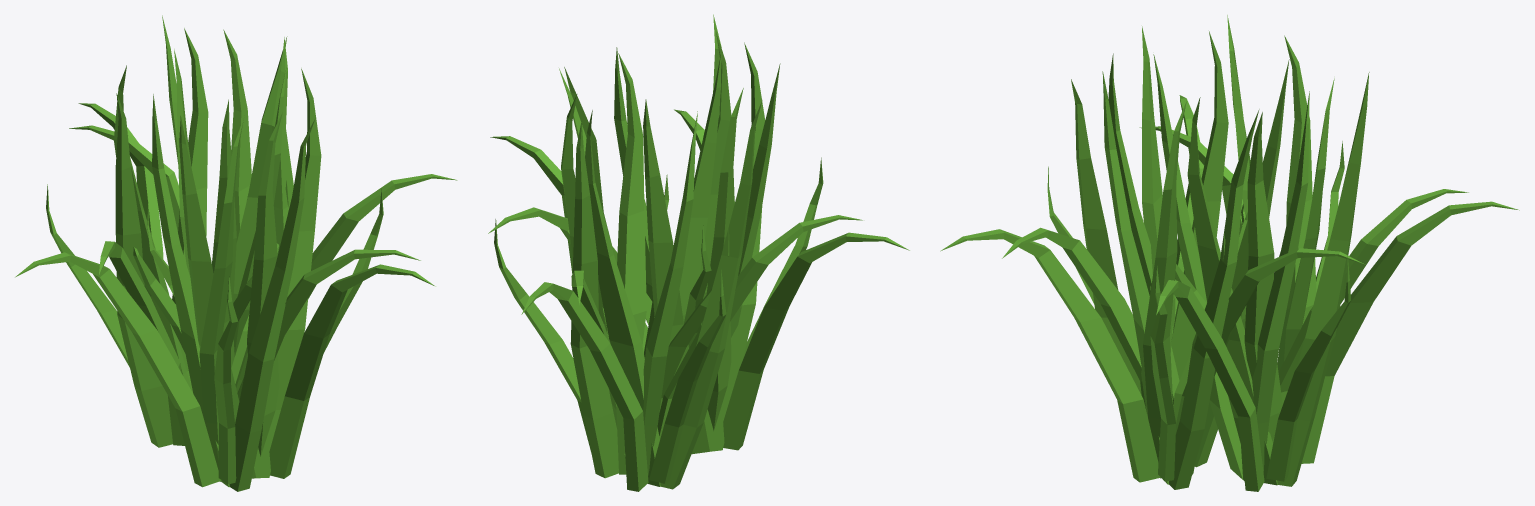
The model's file is Grass.fbx.
3 renders of one model, left to right at view 1: azimuth 30°, elevation 25°; view 2: azimuth 150°, elevation 25°; view 3: azimuth 270°, elevation 25°, orthographic. The views are drawn at different scales.
Visible parts, largest first — view 1: Grass3; view 2: Grass3; view 3: Grass3.
Part boxes in pixels (<box>): Grass3: <box>15,15,457,491</box>; Grass3: <box>488,14,909,491</box>; Grass3: <box>940,15,1519,491</box>.
Bounding box in the file's own units: 78.83 × 67.33 × 87.66.
